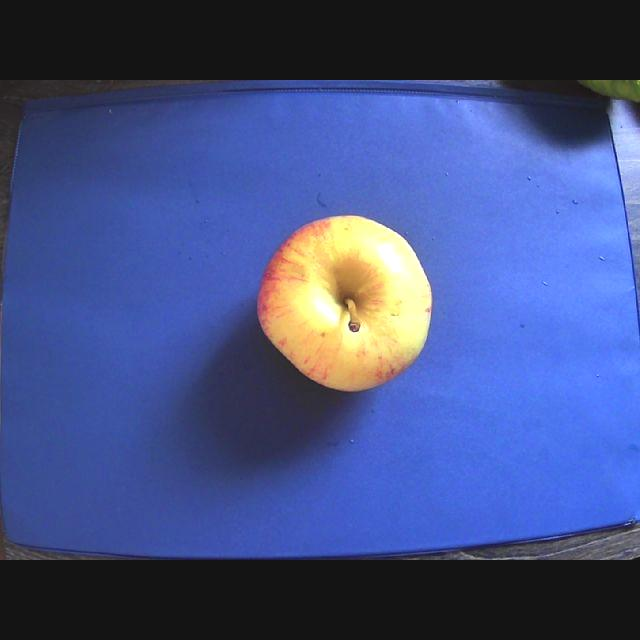manzana: (258, 215, 432, 391)
